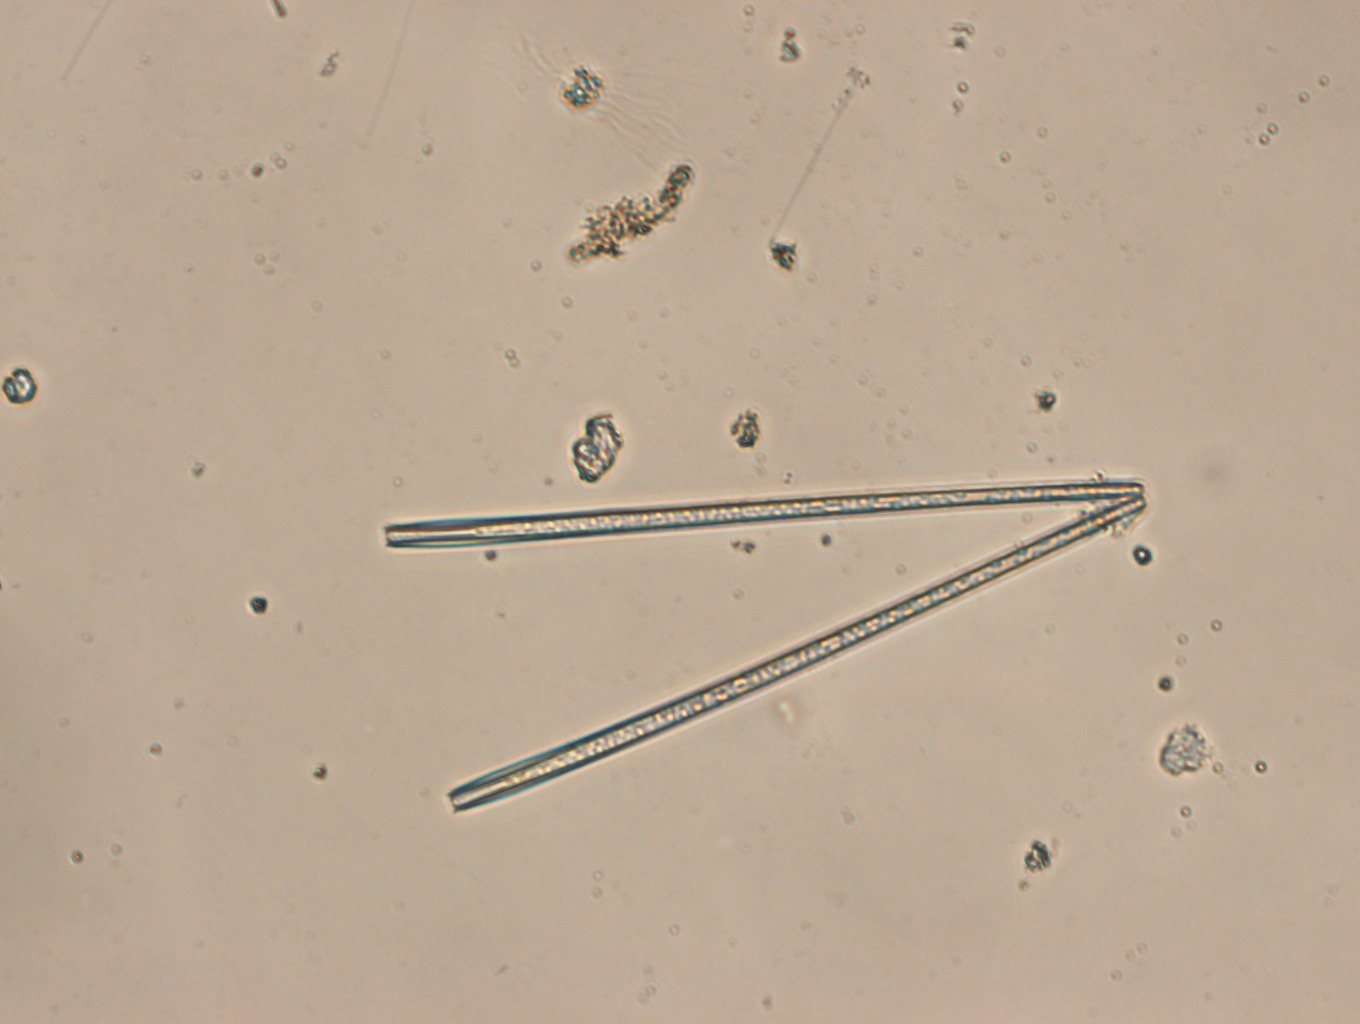thalassionema frauenfeldii: (380, 475, 1149, 826)
